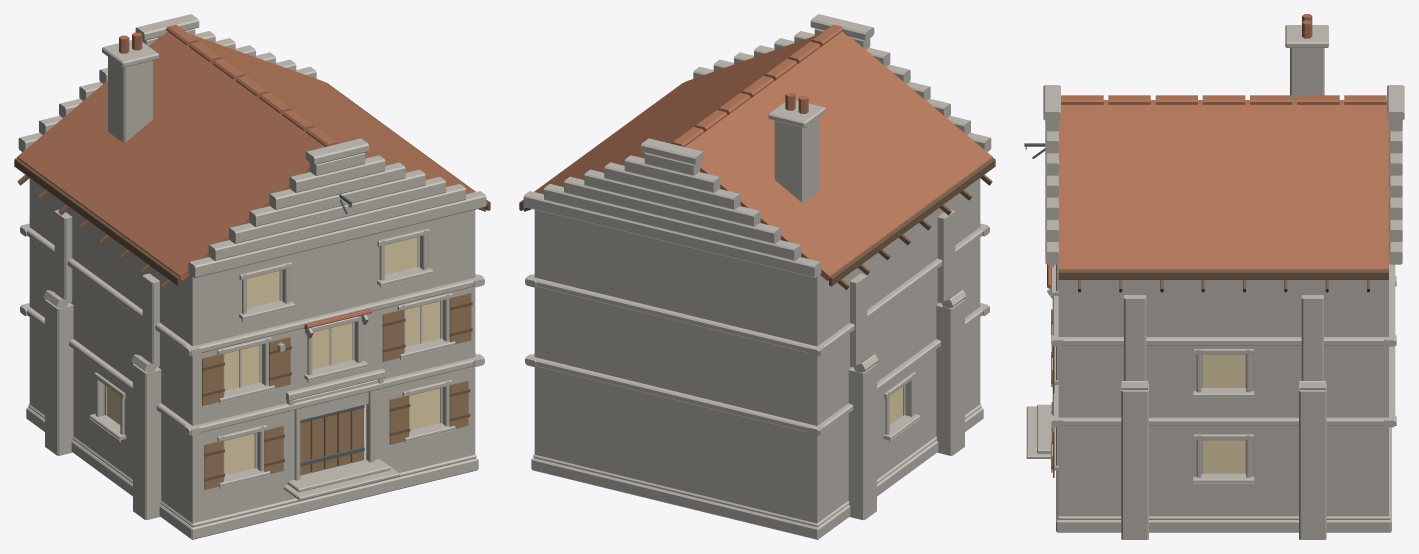
File: house_stone_b.glb
The picture shows the model from 3 angles, left to right: view 1: azimuth 30°, elevation 25°; view 2: azimuth 150°, elevation 25°; view 3: azimuth 270°, elevation 25°; orthographic projection.
Visible parts, largest first — view 1: house_stone_b; view 2: house_stone_b; view 3: house_stone_b.
Part boxes in pixels (x1,y1,x2,y2): house_stone_b: [14, 14, 490, 539]; house_stone_b: [519, 14, 995, 539]; house_stone_b: [1024, 14, 1404, 539].
Size of the model in its own units: 13.74 by 16.03 by 13.7.
